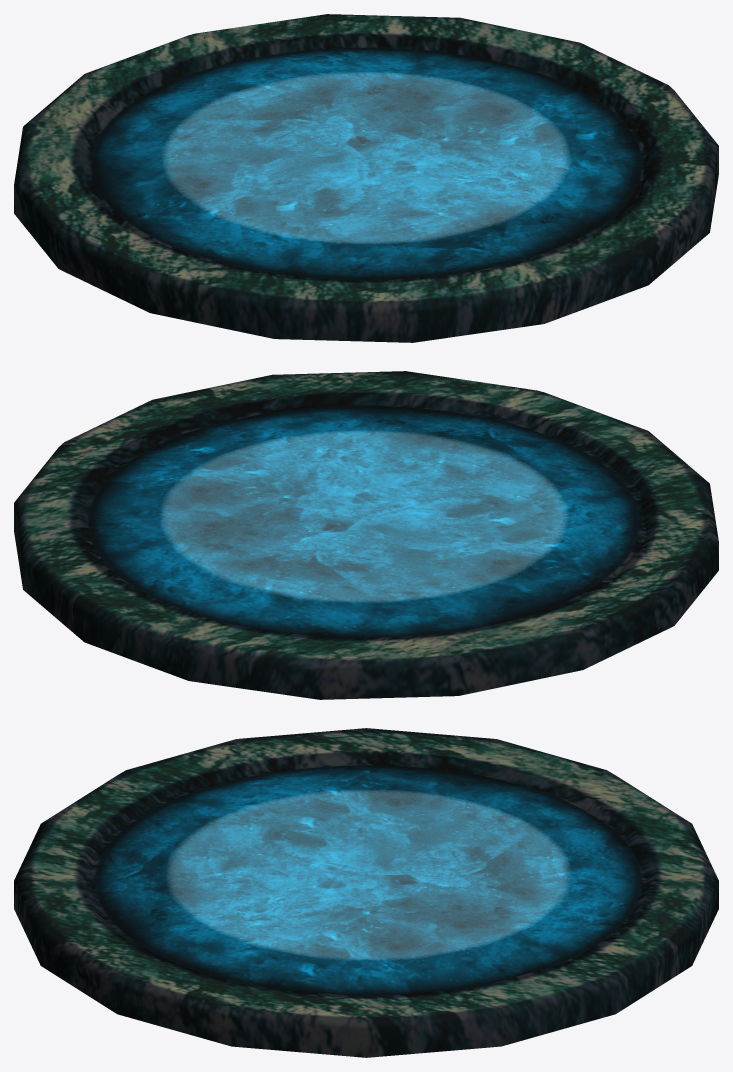
File: object_mass_big_01blue.fbx
The picture shows the model from 3 angles, top to bottom: view 1: azimuth 30°, elevation 25°; view 2: azimuth 150°, elevation 25°; view 3: azimuth 270°, elevation 25°; orthographic projection.
Parts seen in each view (by area): view 1: pCylinder1; view 2: pCylinder1; view 3: pCylinder1.
Part boxes in pixels (<box>): pCylinder1: <box>14,14,718,342</box>; pCylinder1: <box>14,371,718,699</box>; pCylinder1: <box>14,728,718,1057</box>.
Bounding box in the file's own units: 2 × 0.108 × 2.
